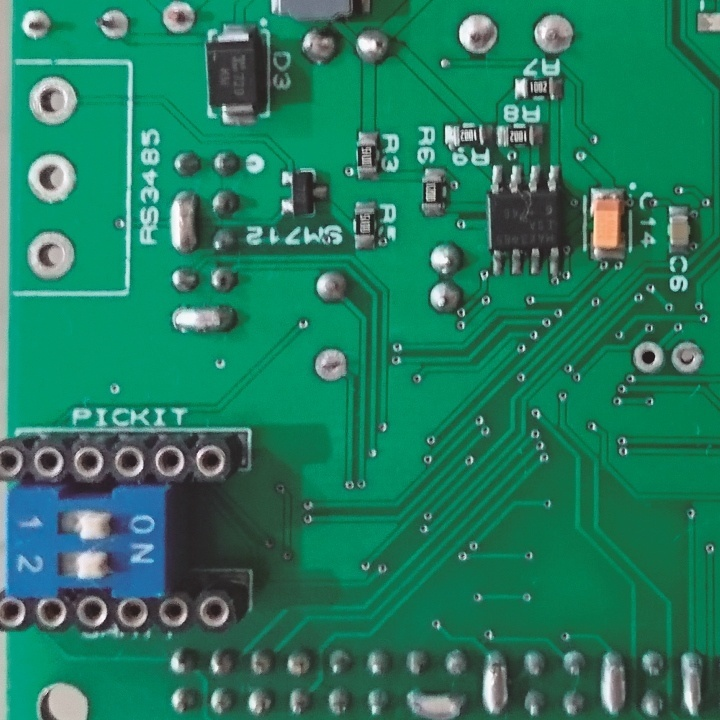F: (26, 149, 79, 206), (26, 229, 79, 286), (24, 75, 81, 126), (455, 12, 499, 57), (533, 12, 575, 55), (669, 338, 705, 379), (312, 347, 347, 386), (94, 8, 130, 42), (160, 3, 197, 35), (16, 10, 54, 40), (632, 340, 664, 375)
P: (404, 684, 466, 720), (596, 649, 629, 716), (170, 303, 238, 335), (168, 187, 199, 257), (481, 649, 509, 720), (677, 652, 707, 718)
